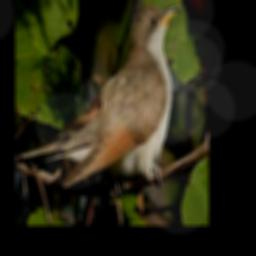Cuckoo: (60, 4, 180, 187)
